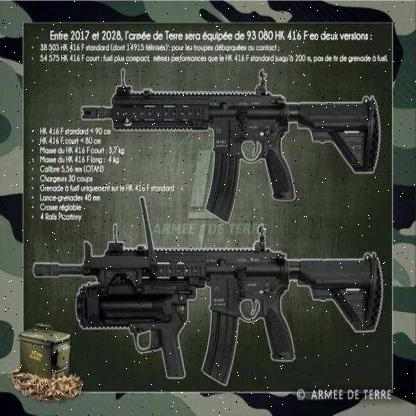rifle: (78, 64, 393, 222)
